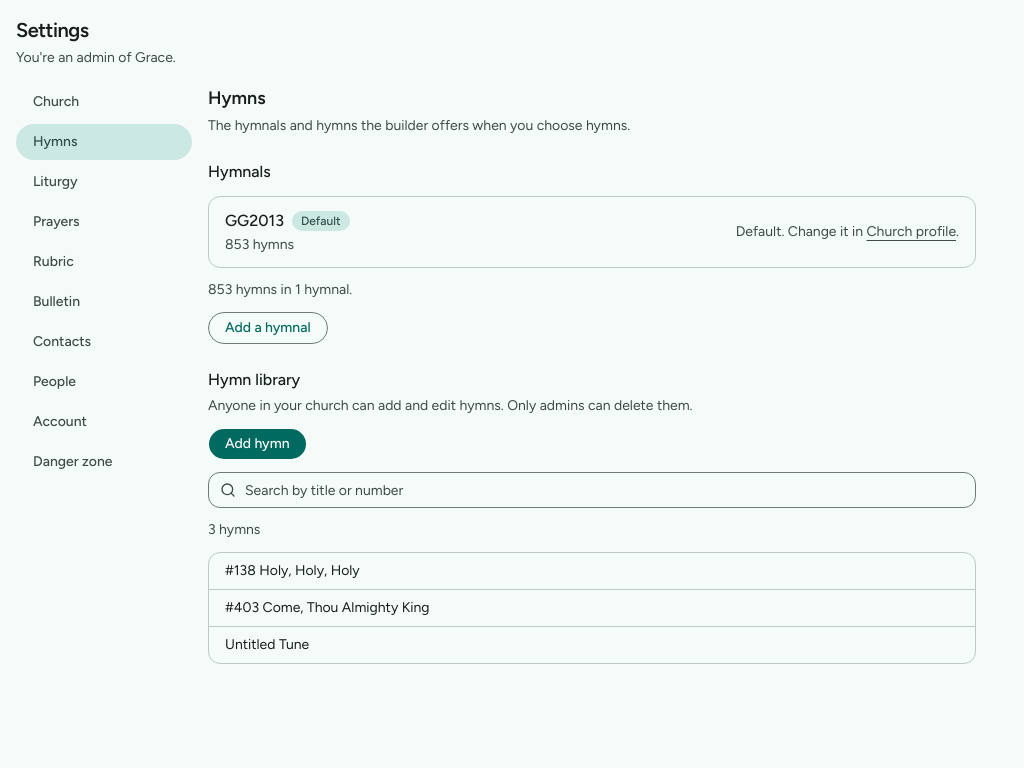
Test case: Settings → Hymns, the Hymn library (slice 6a-2) › adds a hymn in the default hymnal: the body, the toast, and every hymn list refreshed
Expected: the text "3 hymns" is shown, [208,521,260,538]
Click the button "Add hymn". click: (257,444)
box: [208,428,306,460]
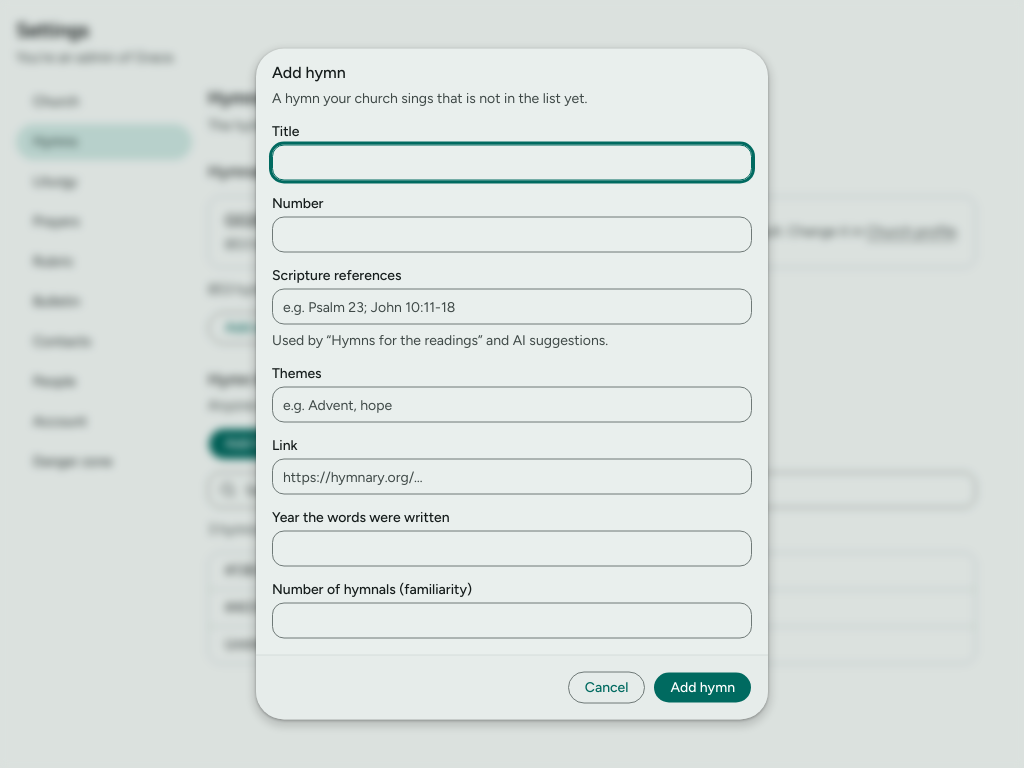
Type " Be Thou My Vision " into the field labelled "Title". click: (512,162)
box: [272,144,752,180]
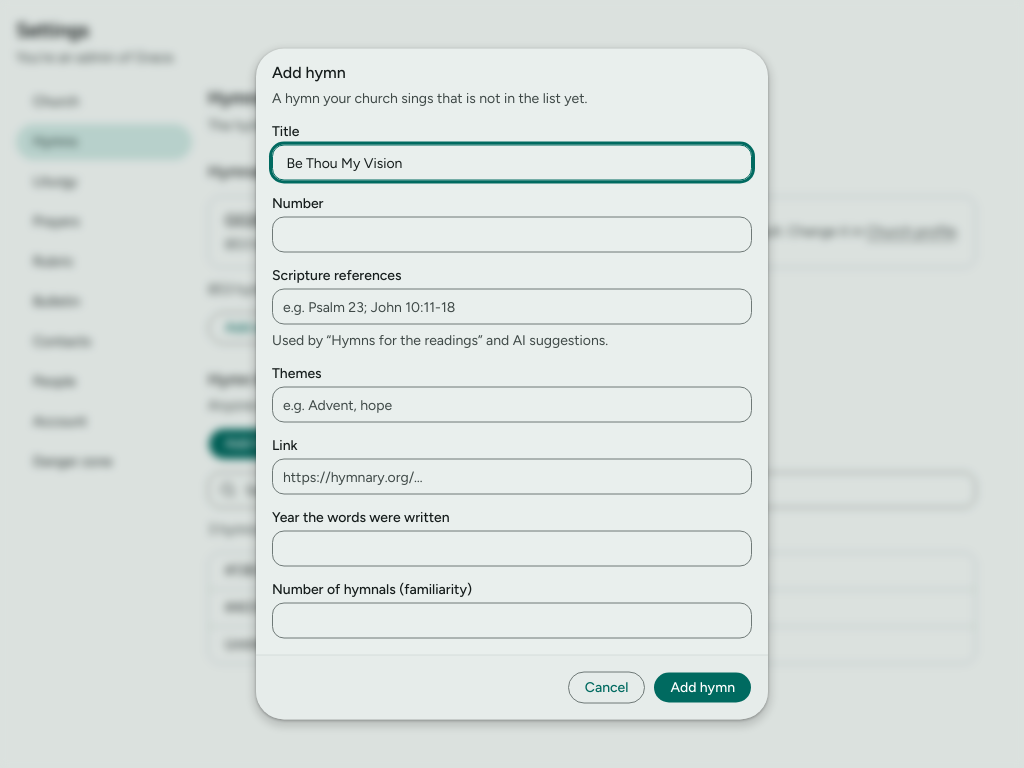
Type "339" into the field labelled "Number". click: (512,234)
box: [272,216,752,252]
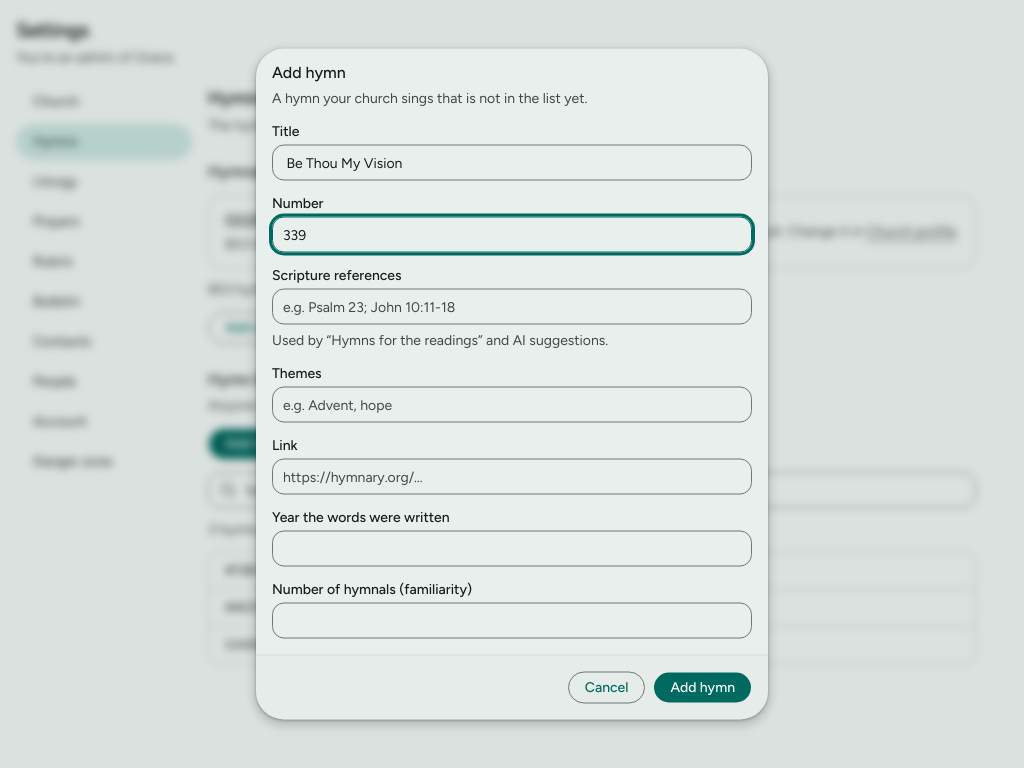
Type "1905" into the field labelled "Year the words were written". click: (512,548)
box: [272,530,752,566]
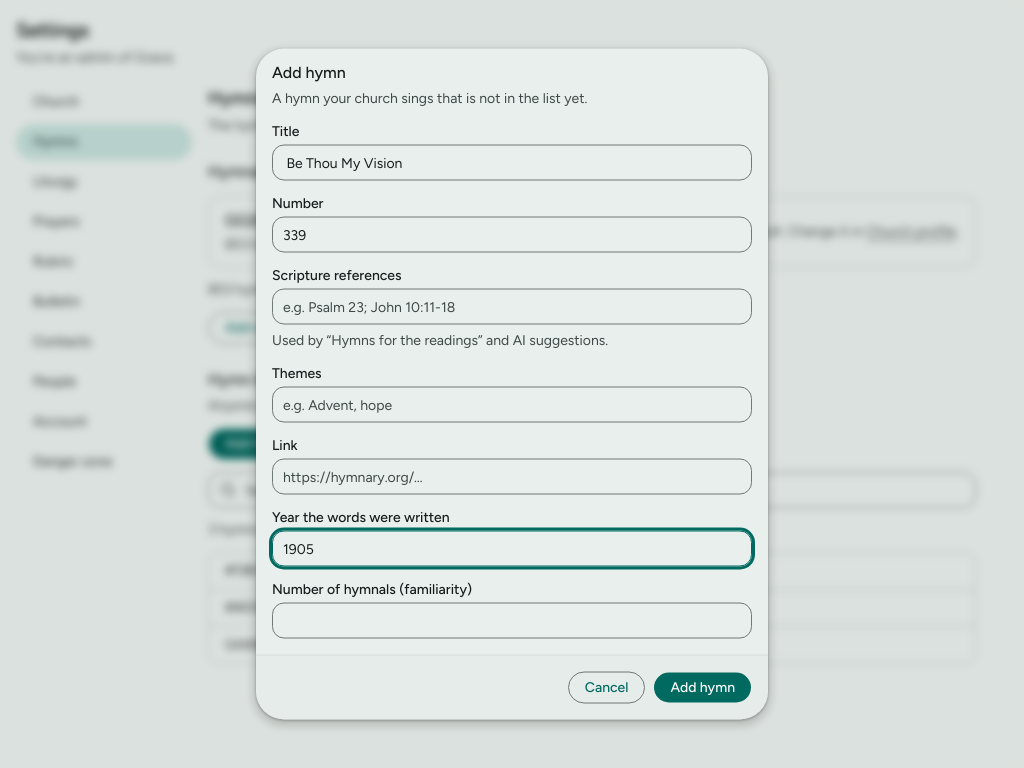
Click the button "Add hymn". click: (703,688)
box: [654,672,752,704]
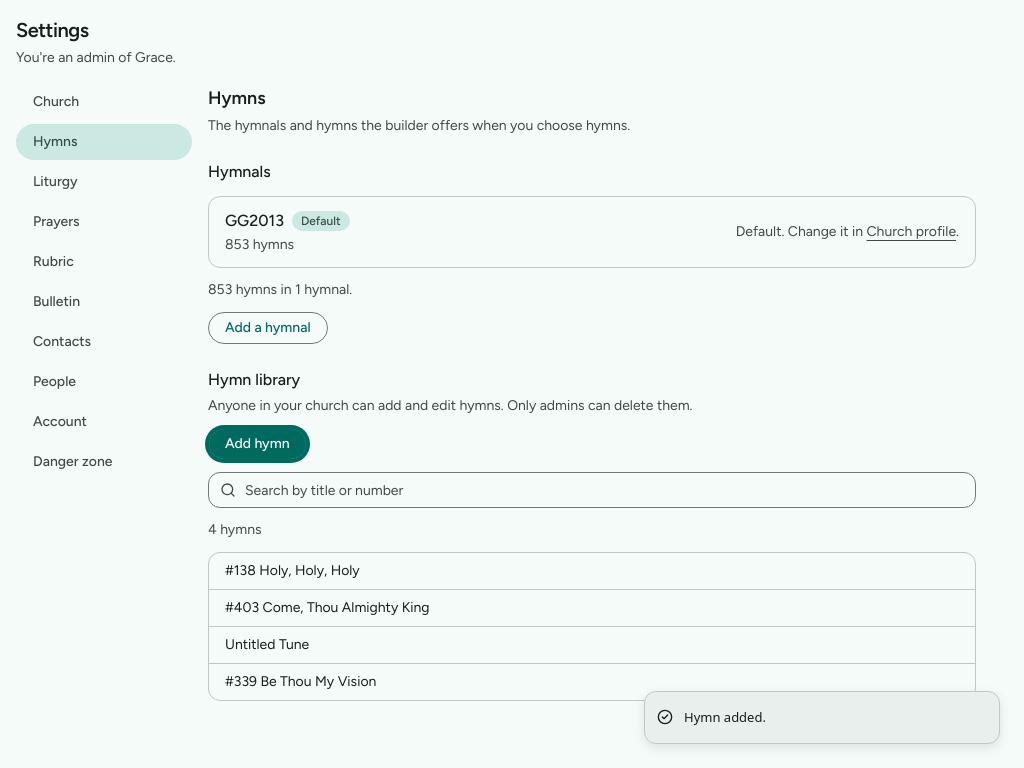
Now the text "Hymn added." is shown, box [684,708,766,727]
Now the dialog is gone
Now the text "4 hymns" is shown, box [208,521,262,538]
